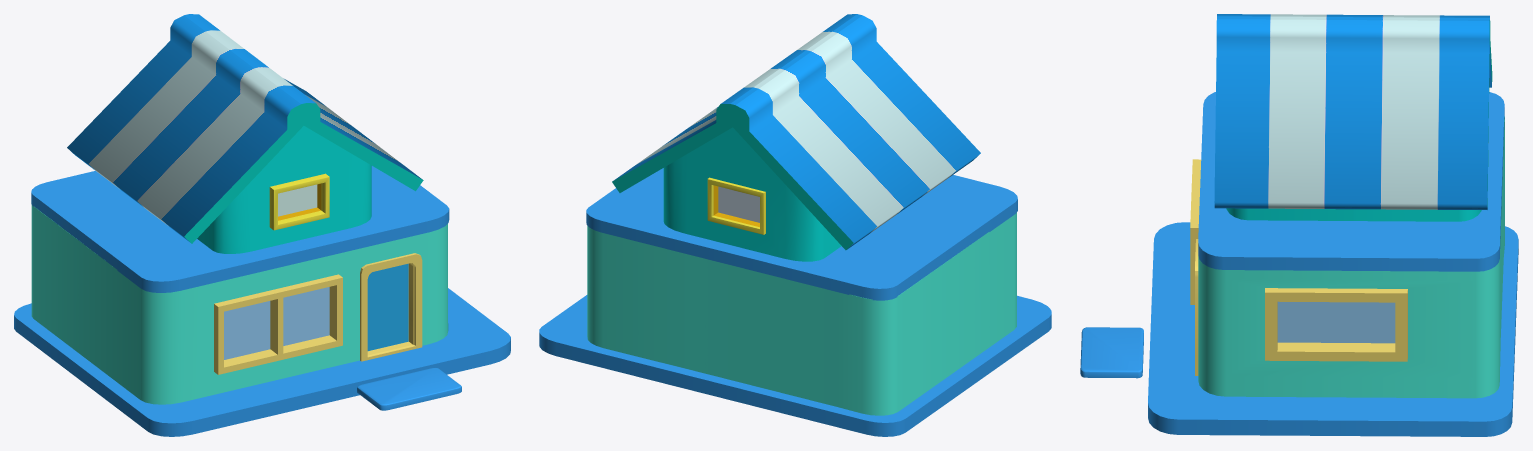
The model's file is DefaultHome1.fbx.
The picture shows the model from 3 angles, left to right: view 1: azimuth 30°, elevation 25°; view 2: azimuth 150°, elevation 25°; view 3: azimuth 270°, elevation 25°; orthographic projection. The views are drawn at different scales.
Visible parts, largest first — view 1: Defaulthomealt, Defaulthomeust; view 2: Defaulthomealt, Defaulthomeust; view 3: Defaulthomealt, Defaulthomeust.
Boxes of the visible parts, x1,y1,x2,y2 form: Defaulthomealt: (14, 166, 510, 436); Defaulthomeust: (67, 14, 423, 253); Defaulthomealt: (539, 168, 1051, 436); Defaulthomeust: (612, 14, 980, 261); Defaulthomealt: (1080, 92, 1518, 436); Defaulthomeust: (1214, 14, 1492, 221).
Size of the model in its own units: 264 by 193 by 245.
